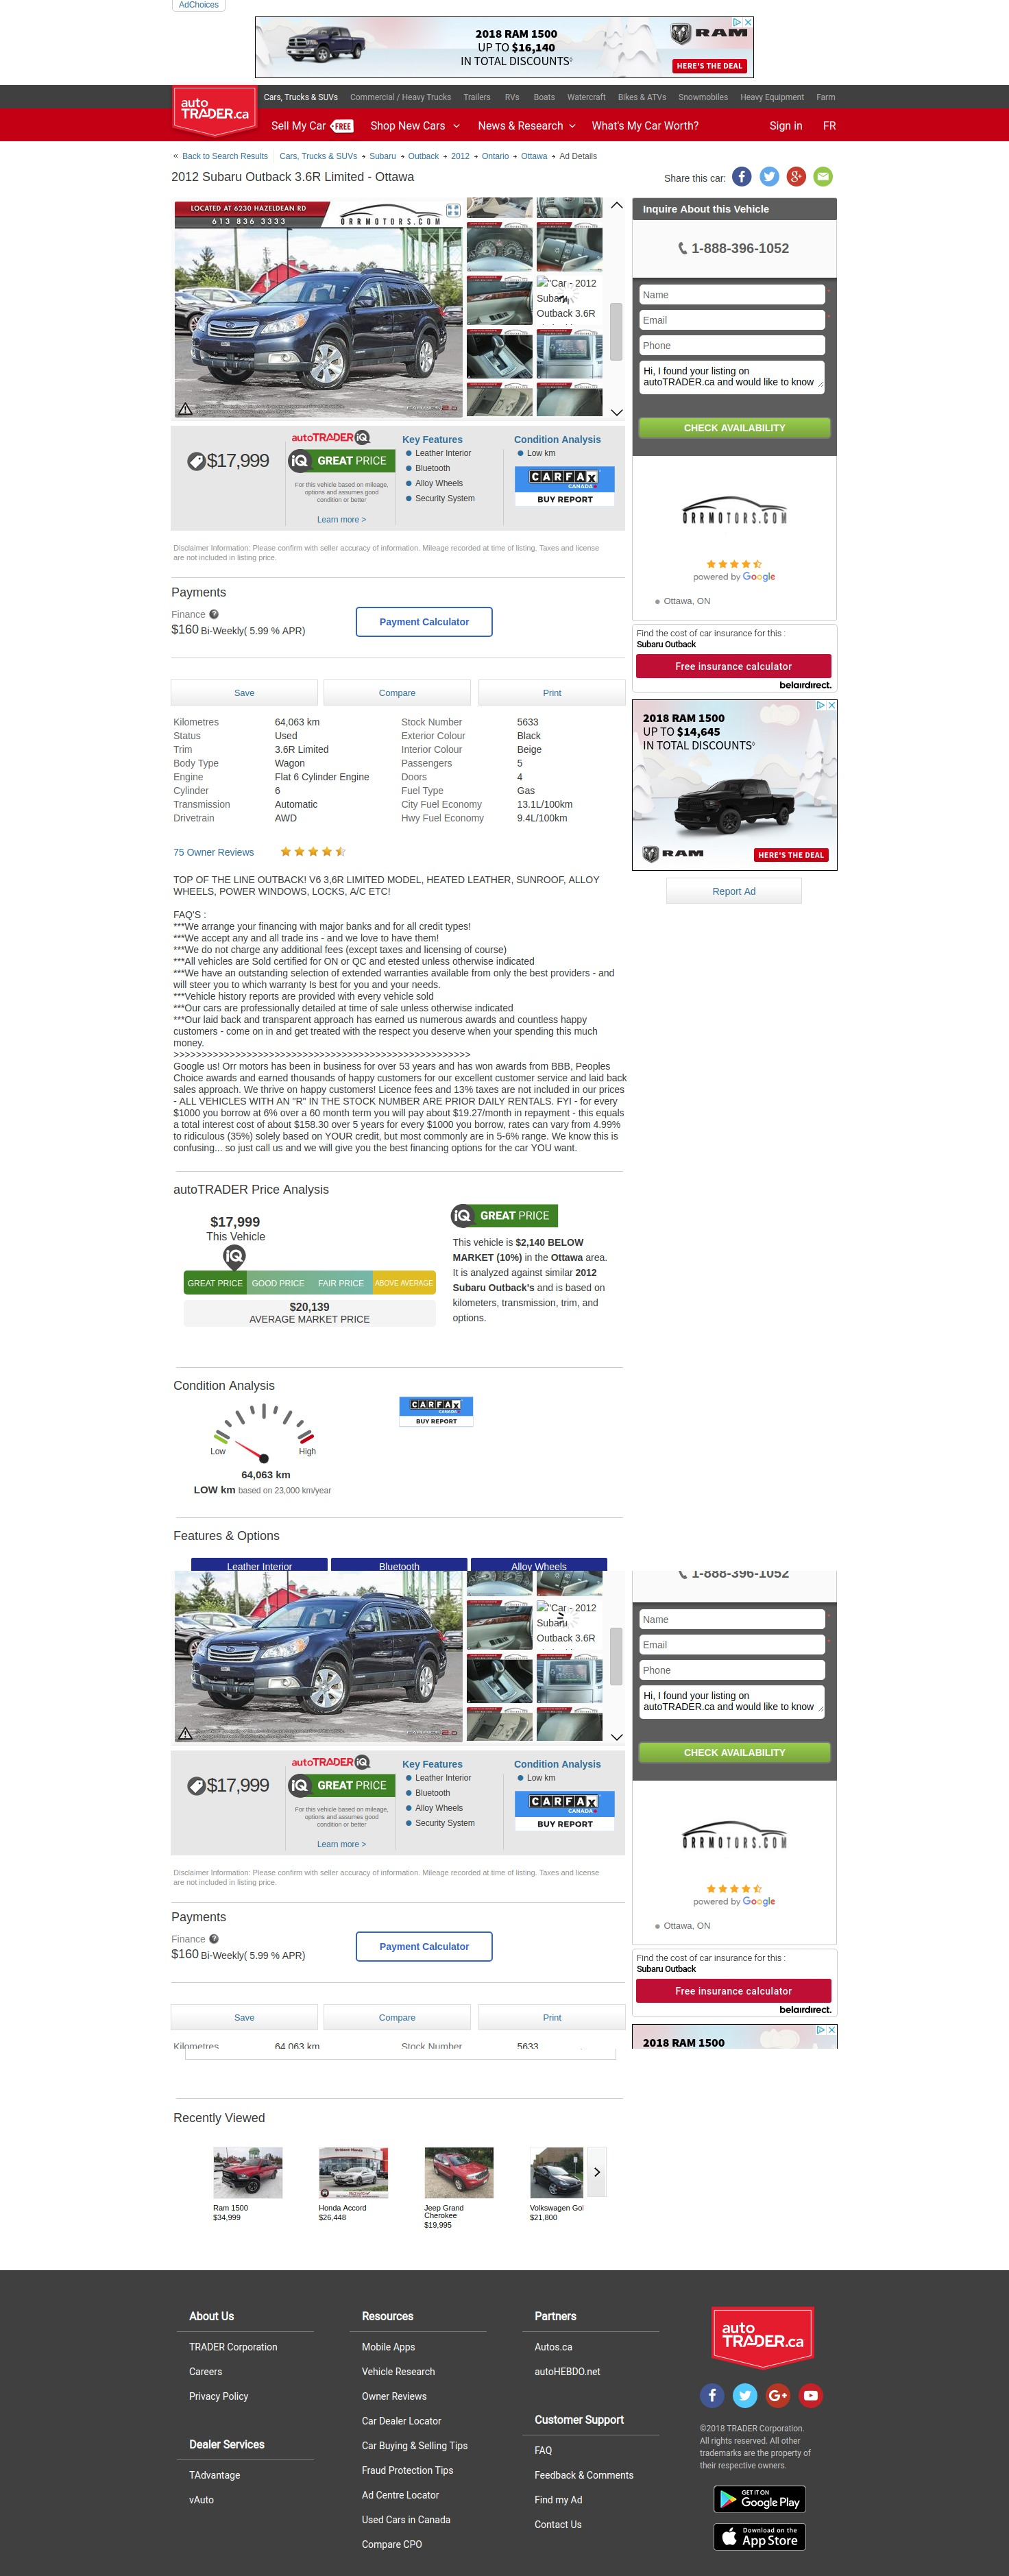car: (610, 409, 624, 419)
